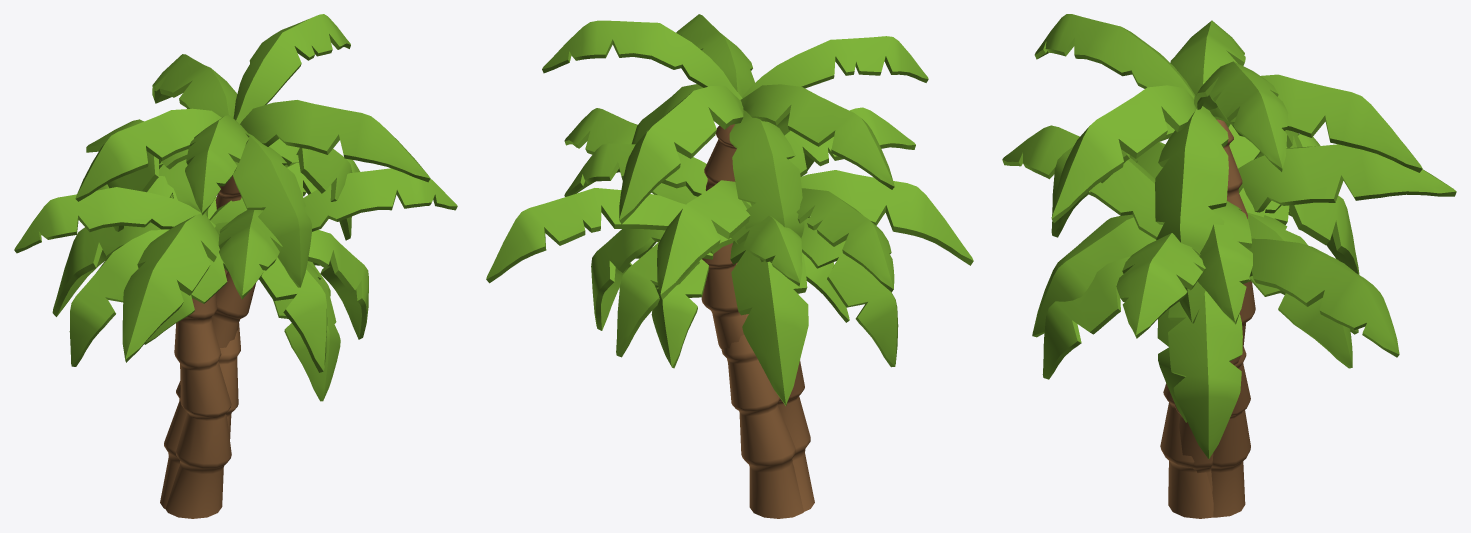
Rendered from palmeras.glb.
The picture shows the model from 3 angles, left to right: view 1: azimuth 30°, elevation 25°; view 2: azimuth 150°, elevation 25°; view 3: azimuth 270°, elevation 25°; orthographic projection. The views are drawn at different scales.
Parts seen in each view (by area): view 1: Environment_PalmTree_3, Environment_PalmTree_1, Environment_PalmTree_2; view 2: Environment_PalmTree_1, Environment_PalmTree_3, Environment_PalmTree_2; view 3: Environment_PalmTree_1, Environment_PalmTree_2, Environment_PalmTree_3.
Part boxes in pixels (box(x1,y1,x2,y2)): Environment_PalmTree_3: box(14, 119, 360, 518); Environment_PalmTree_1: box(75, 14, 430, 438); Environment_PalmTree_2: box(97, 155, 457, 508); Environment_PalmTree_1: box(542, 14, 928, 361); Environment_PalmTree_3: box(564, 143, 973, 511); Environment_PalmTree_2: box(486, 107, 915, 518); Environment_PalmTree_1: box(1034, 14, 1422, 491); Environment_PalmTree_2: box(1002, 125, 1399, 517); Environment_PalmTree_3: box(1032, 122, 1456, 518).
Size of the model in its own units: 3.23 by 3.59 by 2.95.
Materials: 1 (1 with a texture image).
